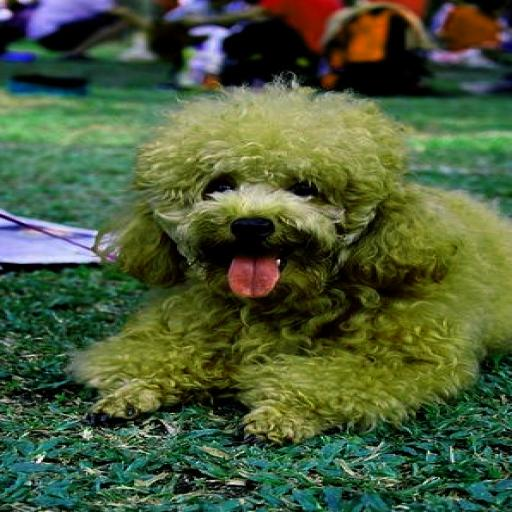dog_face: (119, 92, 402, 287)
